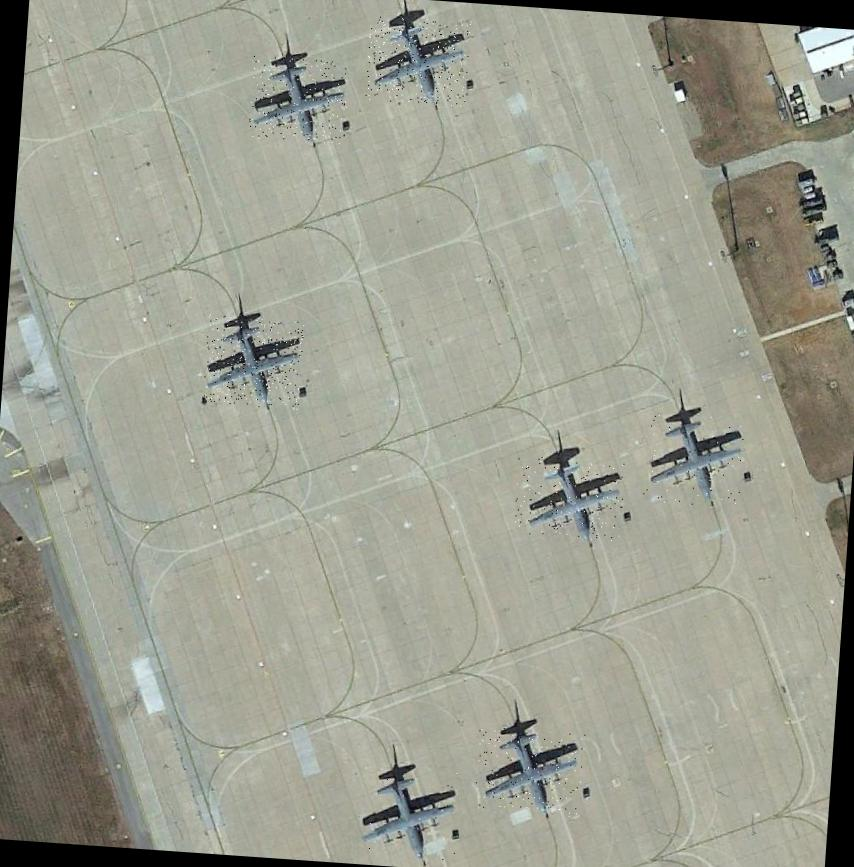A2: (640, 408, 745, 507), (474, 726, 585, 816), (356, 765, 460, 861), (202, 314, 304, 410), (514, 455, 626, 542), (365, 15, 471, 106), (248, 56, 350, 144)
